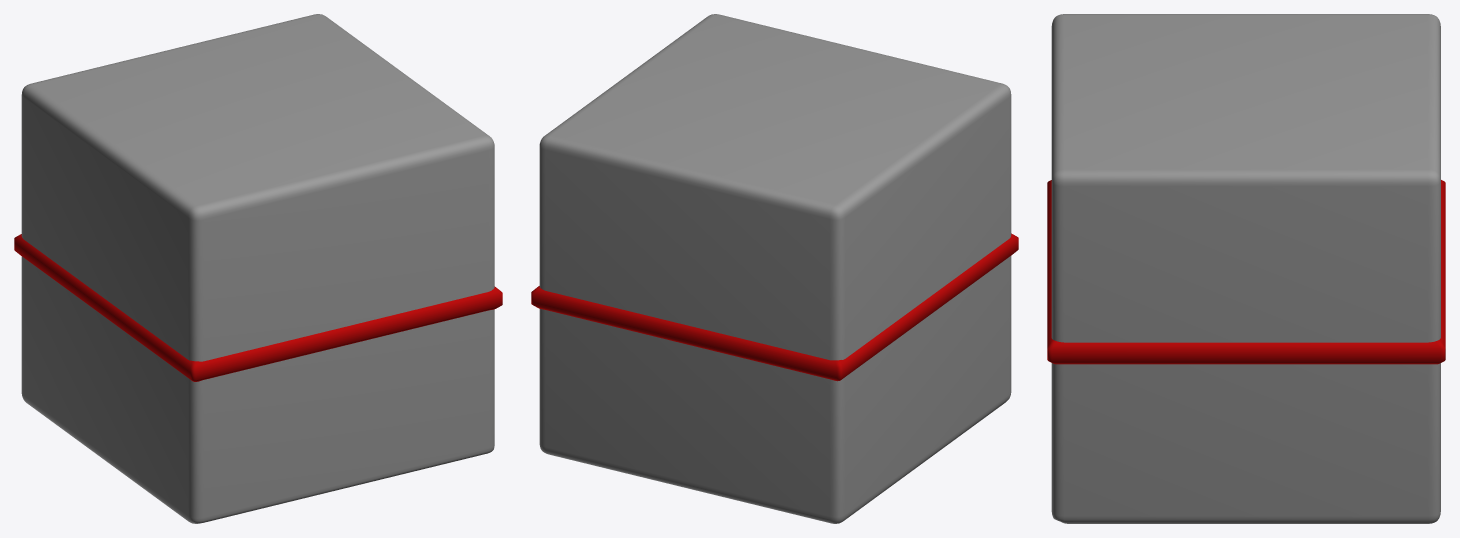
The model's file is Model_StagesBlock_FloorDefault_Completion (1).fbx.
The picture shows the model from 3 angles, left to right: view 1: azimuth 30°, elevation 25°; view 2: azimuth 150°, elevation 25°; view 3: azimuth 270°, elevation 25°; orthographic projection. The views are drawn at different scales.
Parts seen in each view (by area): view 1: Base; view 2: Base; view 3: Base.
Boxes of the visible parts, left/top/right/bottom form: Base: left=14, top=14, right=502, bottom=523; Base: left=531, top=14, right=1018, bottom=523; Base: left=1047, top=14, right=1445, bottom=523.
Bounding box in the file's own units: 102 × 100 × 102.
